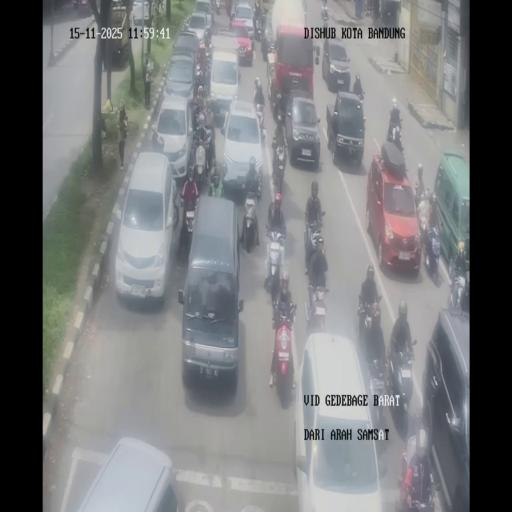3: (273, 22, 314, 112), (104, 2, 132, 66)
car: (178, 198, 244, 386), (421, 305, 469, 509), (115, 152, 176, 306), (63, 436, 177, 510), (366, 150, 420, 274), (433, 153, 469, 272), (222, 100, 264, 198), (152, 94, 194, 182), (326, 91, 366, 167), (284, 93, 322, 169), (163, 52, 197, 106), (210, 29, 242, 82), (322, 39, 352, 93), (230, 2, 256, 42), (185, 10, 212, 45), (263, 12, 276, 55), (132, 1, 150, 26), (73, 0, 90, 14)
truck: (266, 300, 298, 405), (364, 342, 392, 436), (387, 335, 417, 421), (398, 468, 437, 508), (264, 221, 286, 290), (304, 281, 330, 338), (239, 190, 260, 251), (304, 211, 326, 269), (358, 295, 383, 343), (177, 199, 197, 258), (423, 220, 442, 279), (448, 256, 468, 311), (192, 138, 208, 190), (192, 52, 210, 96), (272, 142, 288, 191), (386, 118, 404, 155), (268, 59, 279, 114), (191, 91, 204, 130), (253, 98, 266, 136), (206, 92, 218, 128), (414, 178, 426, 210), (150, 127, 164, 154), (275, 106, 286, 138), (252, 13, 262, 42), (354, 84, 365, 104), (320, 0, 330, 22), (172, 200, 179, 229), (214, 0, 220, 14)
